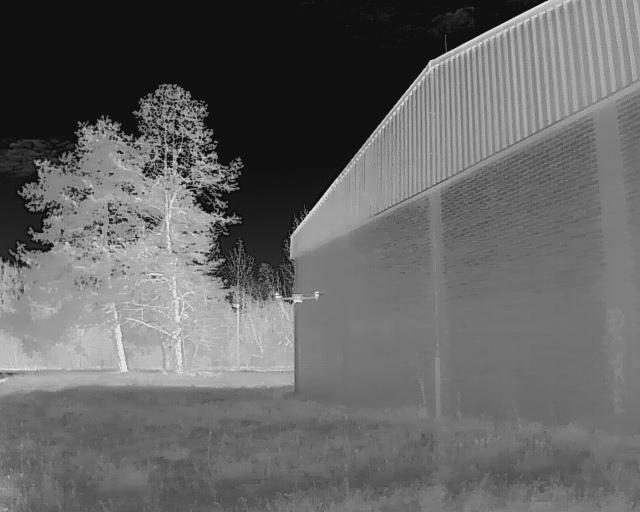drone: (272, 282, 324, 308)
